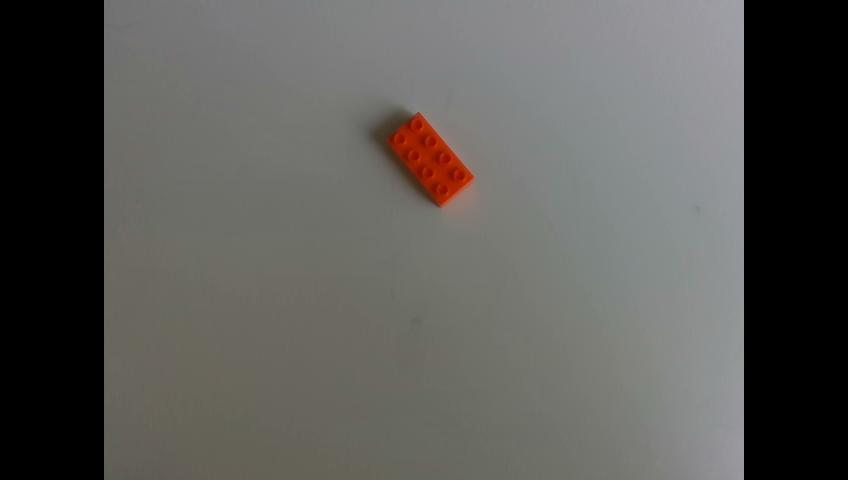4x2_orange: (387, 111, 473, 206)
